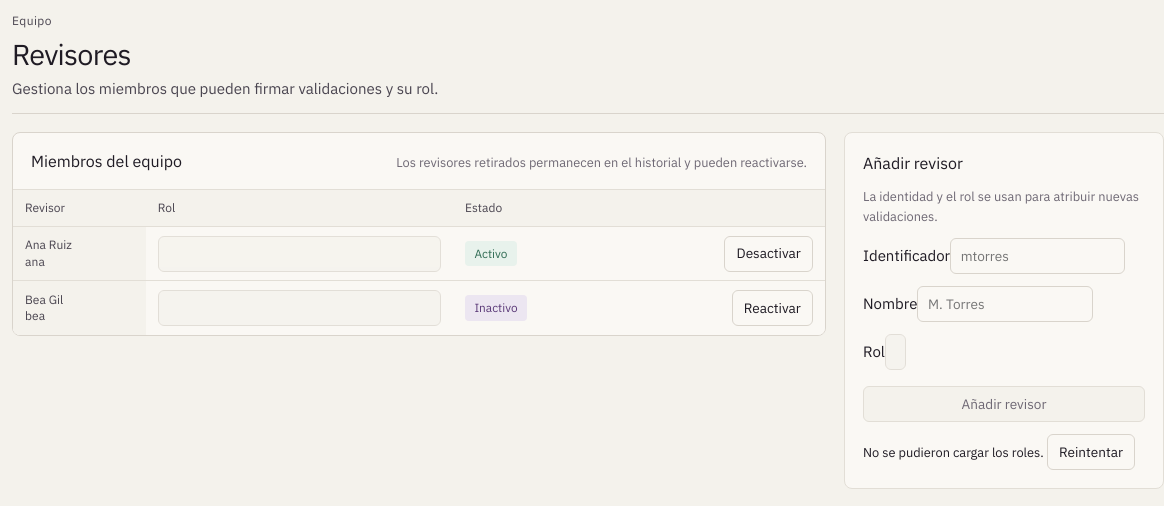
Test: mantiene el alta bloqueada y permite reintentar si fallan los roles
Expected: the text "No se pudieron cargar los roles." is shown, [863,444,1047,461]
Expected: the button "Añadir revisor" is disabled, [863,386,1145,422]
Click the button "Reintentar": click(1091, 452) [1047,434,1135,470]
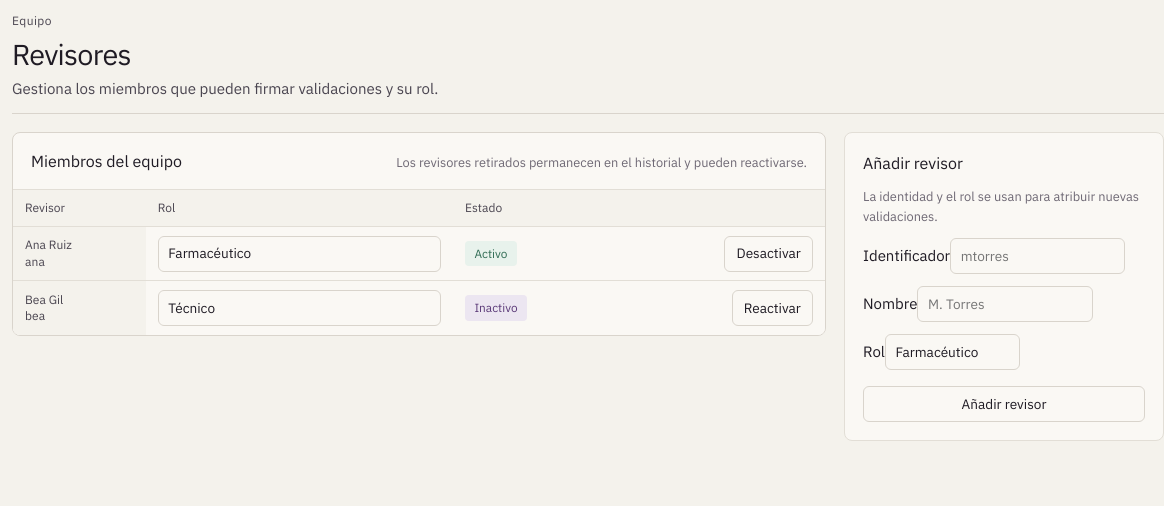
Expected: the button "Añadir revisor" is enabled, [863,386,1145,422]
